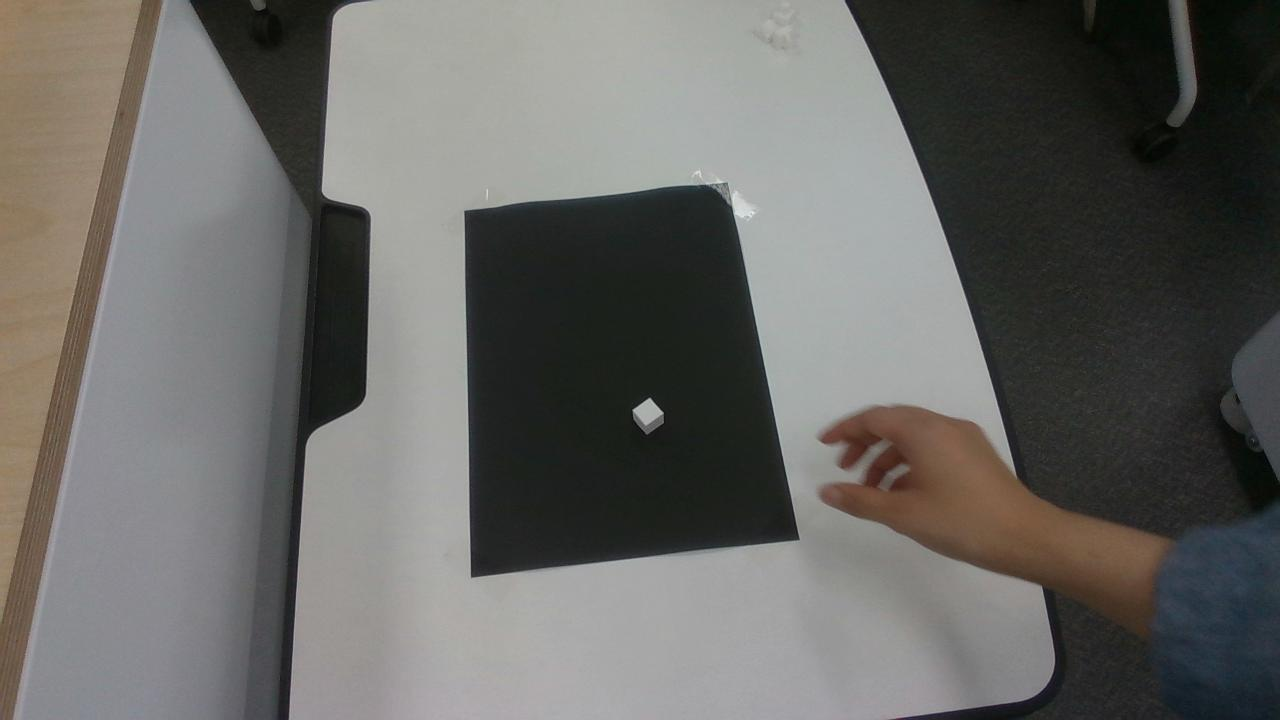cube: (633, 398, 663, 434)
